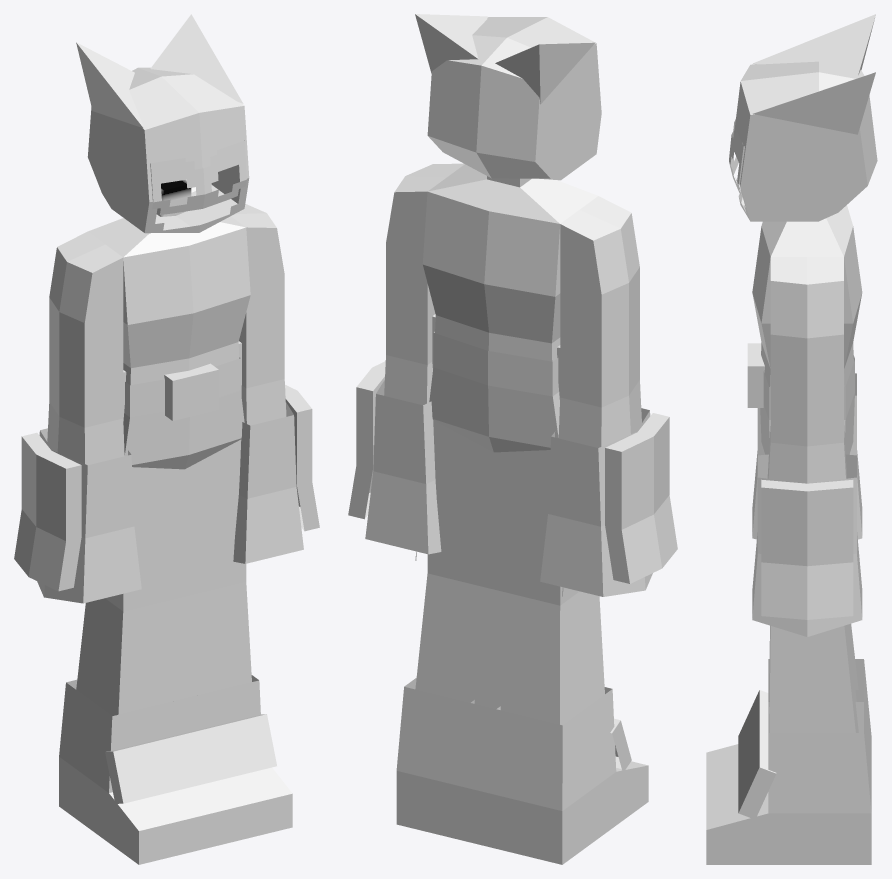
File: classic_costume_02.fbx
The picture shows the model from 3 angles, left to right: view 1: azimuth 30°, elevation 25°; view 2: azimuth 150°, elevation 25°; view 3: azimuth 270°, elevation 25°; orthographic projection. The views are drawn at different scales.
Parts seen in each view (by area): view 1: head_mesh, right_shin_mesh_1, chest_mesh, right_forearm_mesh_1, right_arm_mesh, left_shin_mesh_1, right_shin_mesh, left_forearm_mesh_1, left_thigh_mesh, right_thigh_mesh, left_shin_mesh, left_arm_mesh (+6 smaller); view 2: head_mesh, chest_mesh, right_shin_mesh_1, right_forearm_mesh_1, right_arm_mesh, right_shin_mesh, left_shin_mesh_1, left_forearm_mesh_1, left_thigh_mesh, right_thigh_mesh, left_shin_mesh, left_arm_mesh (+5 smaller); view 3: head_mesh, left_shin_mesh_1, left_forearm_mesh_1, left_arm_mesh, left_shin_mesh, chest_mesh, right_shin_mesh_1, left_forearm_mesh, hip_mesh_selection, right_forearm_mesh_1, hip_mesh_1, head_mesh_selection (+2 smaller).
Part boxes in pixels (box(x1,y1,x2,y2)): head_mesh: box(76, 14, 249, 233); right_shin_mesh_1: box(59, 679, 231, 864); chest_mesh: box(88, 180, 250, 368); right_forearm_mesh_1: box(14, 428, 141, 603); right_arm_mesh: box(49, 231, 123, 427); left_shin_mesh_1: box(173, 675, 292, 849); right_shin_mesh: box(76, 596, 190, 715); left_forearm_mesh_1: box(233, 385, 319, 563); left_thigh_mesh: box(184, 439, 246, 596); right_thigh_mesh: box(105, 467, 184, 611); left_shin_mesh: box(180, 581, 251, 699); left_arm_mesh: box(231, 204, 284, 388); head_mesh: box(415, 14, 601, 180); chest_mesh: box(422, 164, 597, 343); right_shin_mesh_1: box(463, 587, 648, 864); right_forearm_mesh_1: box(540, 408, 677, 596); right_arm_mesh: box(560, 196, 639, 407); right_shin_mesh: box(481, 589, 604, 725); left_shin_mesh_1: box(396, 552, 500, 840); left_forearm_mesh_1: box(348, 361, 441, 554); left_thigh_mesh: box(427, 420, 493, 589); right_thigh_mesh: box(494, 450, 579, 605); left_shin_mesh: box(415, 573, 493, 706); left_arm_mesh: box(386, 163, 464, 364); head_mesh: box(734, 14, 877, 221); left_shin_mesh_1: box(706, 690, 871, 864); left_forearm_mesh_1: box(752, 454, 862, 636); left_arm_mesh: box(770, 257, 843, 446); left_shin_mesh: box(769, 624, 858, 732); chest_mesh: box(752, 205, 862, 368); right_shin_mesh_1: box(706, 659, 871, 798); left_forearm_mesh: box(767, 425, 846, 483); hip_mesh_selection: box(747, 343, 854, 419); right_forearm_mesh_1: box(752, 373, 862, 539); hip_mesh_1: box(760, 393, 854, 454); head_mesh_selection: box(729, 119, 744, 195).
Size of the model in its own units: 112 by 294 by 58.29.
7 materials, 7 textured.
